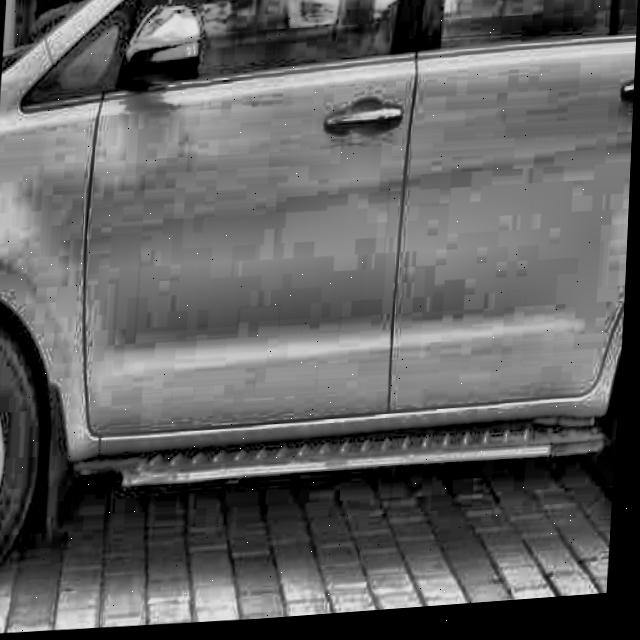light_vehicle: (0, 0, 640, 603)
